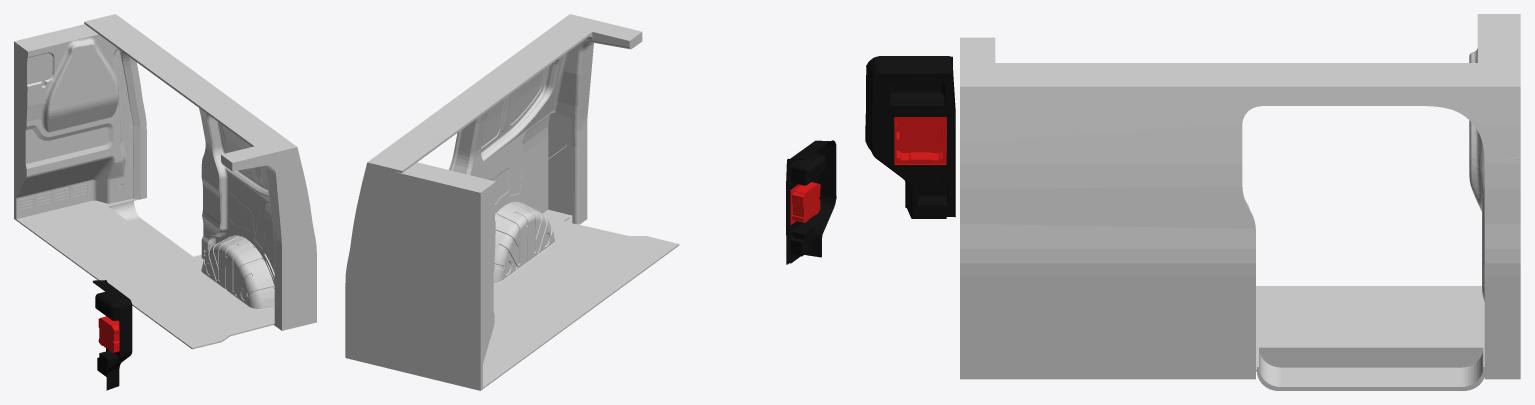
File: Ford_Custom_FO38_2023-_R_D.glb
The picture shows the model from 3 angles, left to right: view 1: azimuth 30°, elevation 25°; view 2: azimuth 150°, elevation 25°; view 3: azimuth 270°, elevation 25°; orthographic projection. The views are drawn at different scales.
Parts seen in each view (by area): view 1: FO38_R_D; view 2: FO38_R_D; view 3: FO38_R_D.
Part boxes in pixels (bbox=[...]): FO38_R_D: bbox=[14, 14, 316, 390]; FO38_R_D: bbox=[345, 14, 836, 390]; FO38_R_D: bbox=[865, 14, 1520, 390].
Bounding box in the file's own units: 1846 × 1504 × 2981.
